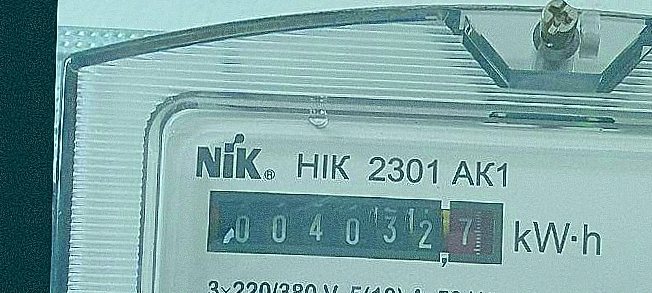0: (267, 211, 288, 244), (231, 210, 251, 243), (341, 213, 361, 246)
2: (415, 216, 434, 250)
3: (379, 212, 398, 244)
4: (304, 209, 325, 245)
7: (456, 214, 474, 247)
screen: (195, 181, 511, 276)
